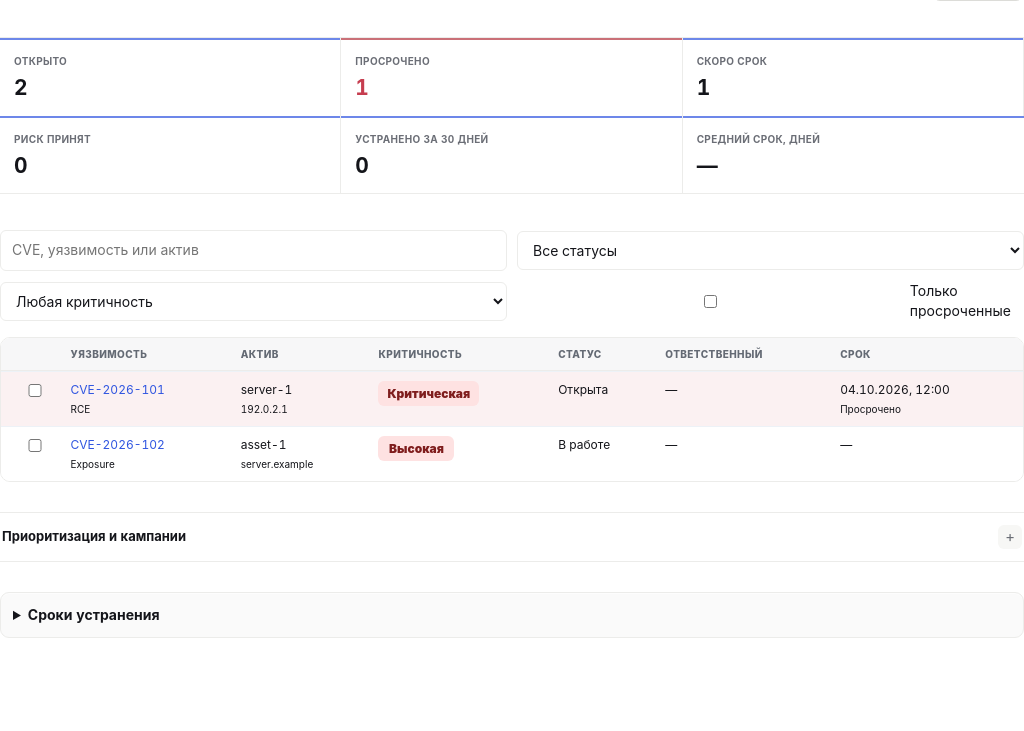
Scenario: remediation workflows › preserves history and encodes navigation to related evidence
Step 1. Click the button "CVE-2026-101" → (118, 390), box [70,381,165,398]
(page scrolled)
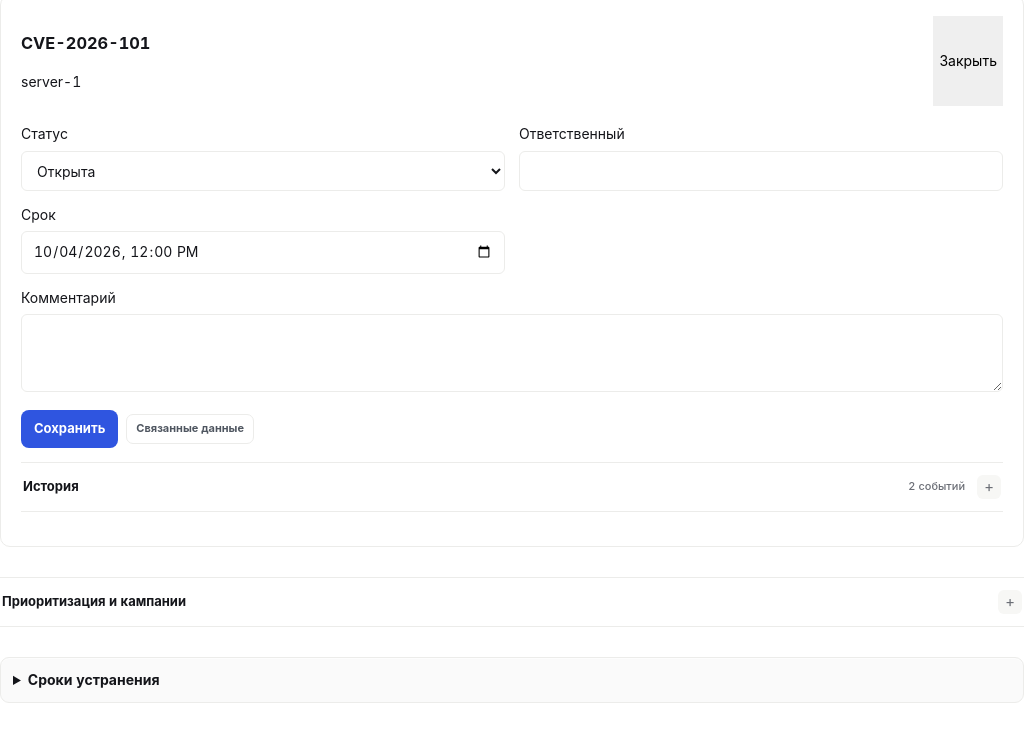
Step 2. Click the heading "Связанные данные" → (190, 429), box [126,414,254,444]
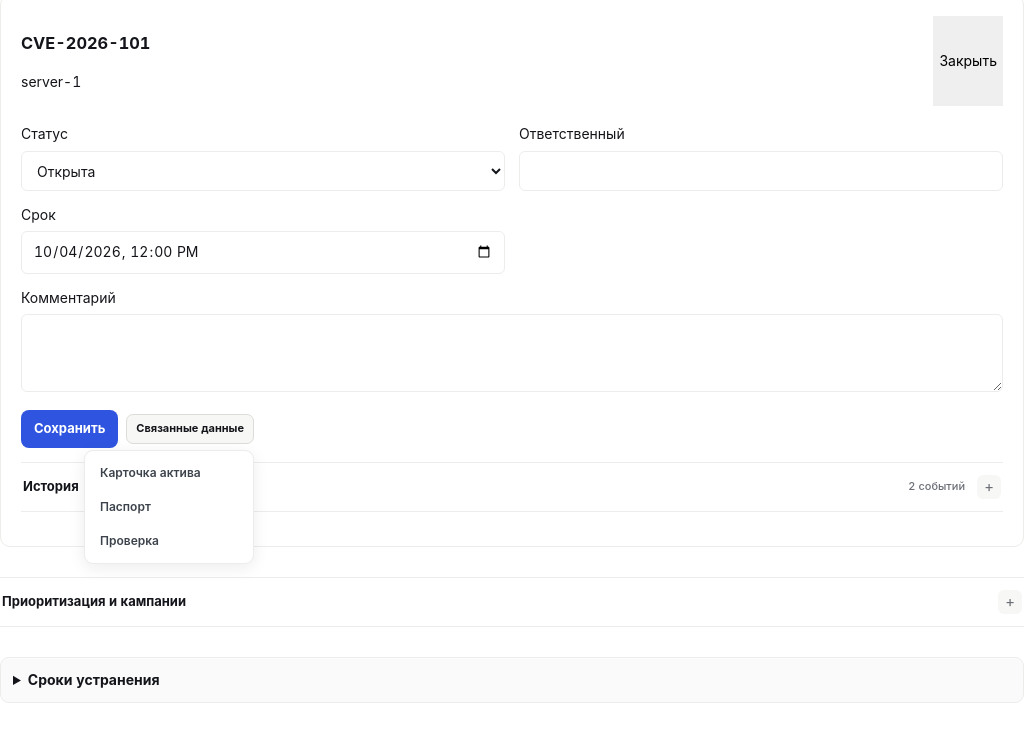
Step 3. Click the text "История" → (51, 486), box [23,478,79,494]
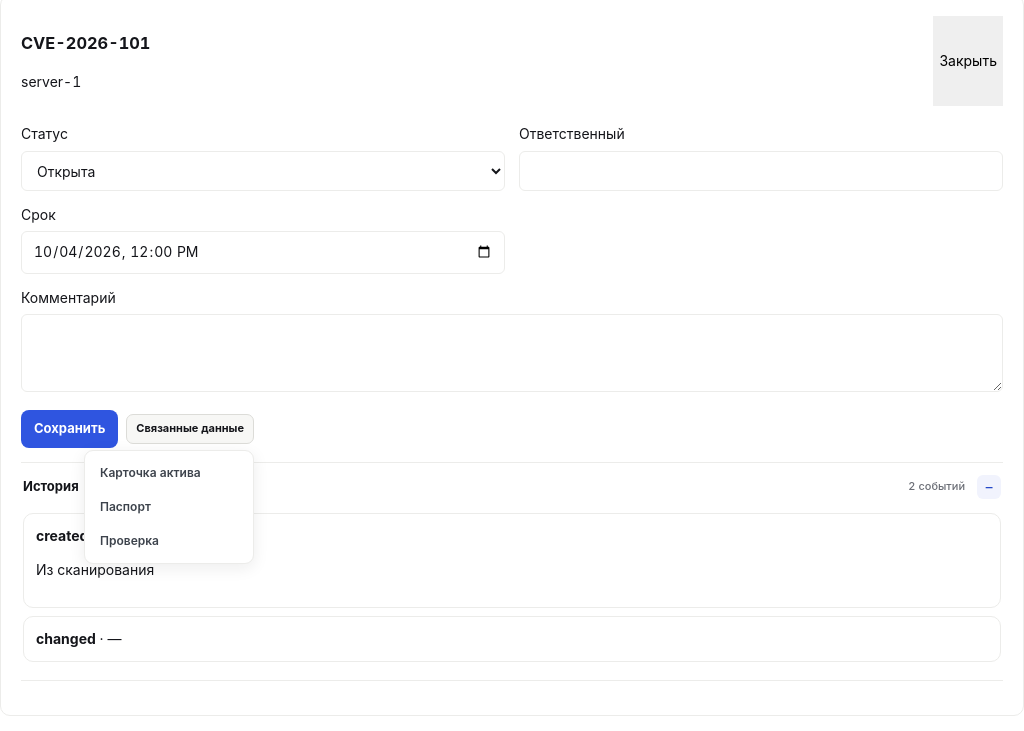
Check: the text "Из сканирования" is shown, box [36,561,154,578]
Check: the text "changed" is shown, box [36,630,96,646]
